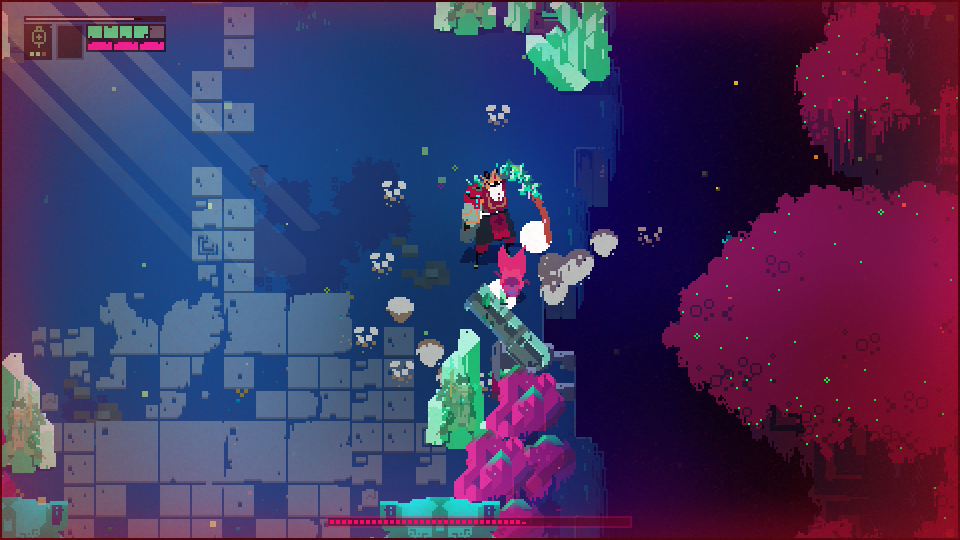hanged_man: (451, 161, 557, 271)
player: (492, 245, 534, 304)
